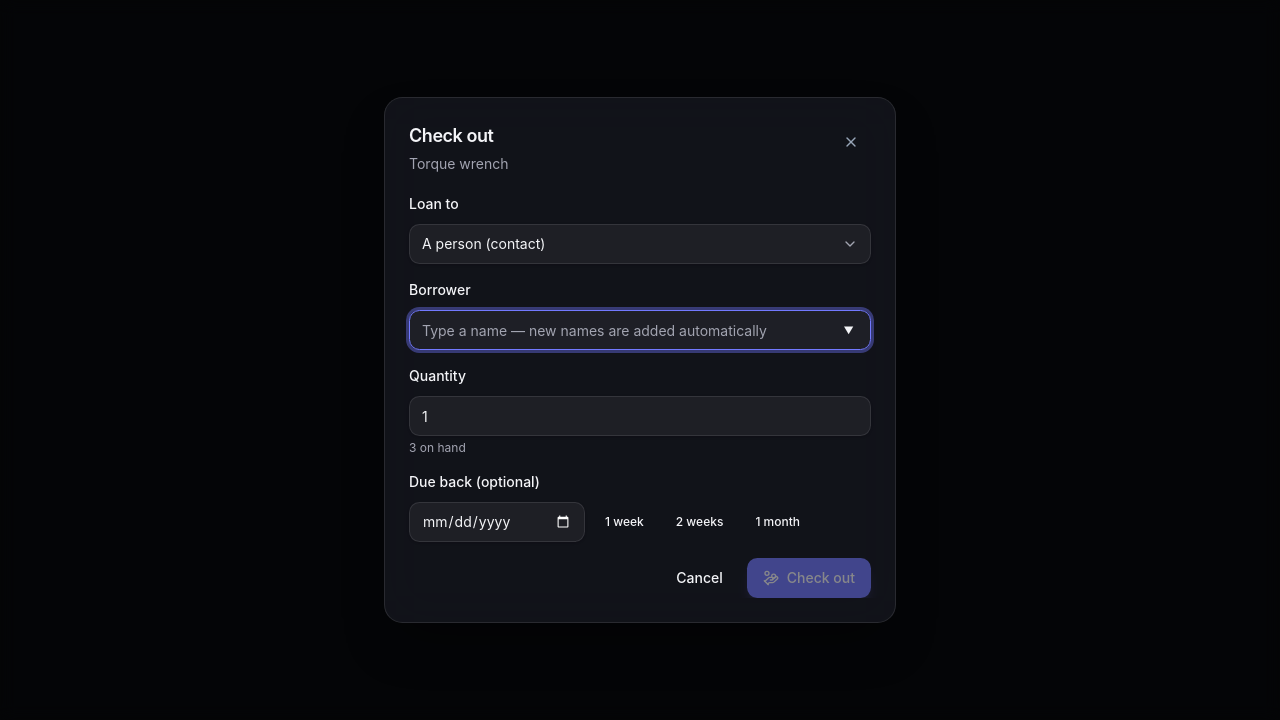
it: CheckoutDialog — loan target is a tagged union (B4) › keeps Check out disabled until a project is picked
This screenshot has width=1280, height=720.
Click the dropdown named "Loan to" at (640, 244), box [409,224,871,264]
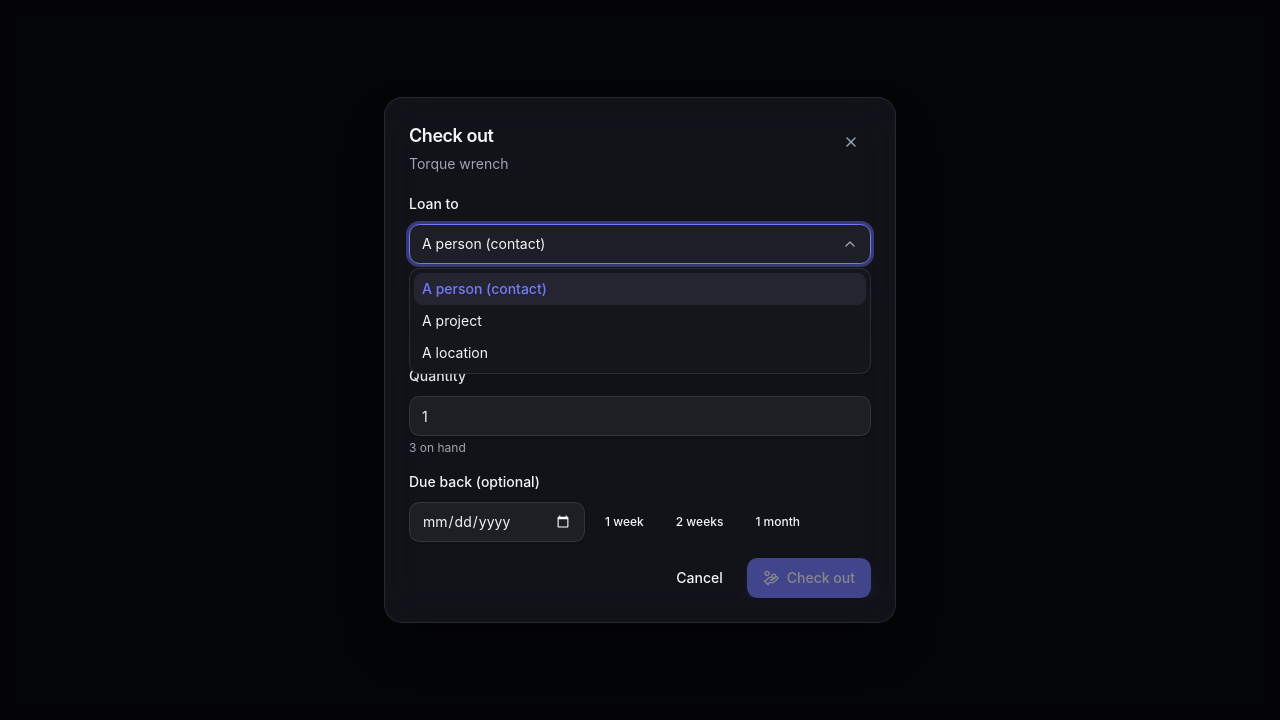
Click the option "A project" at (452, 320), box [422,312,482,329]
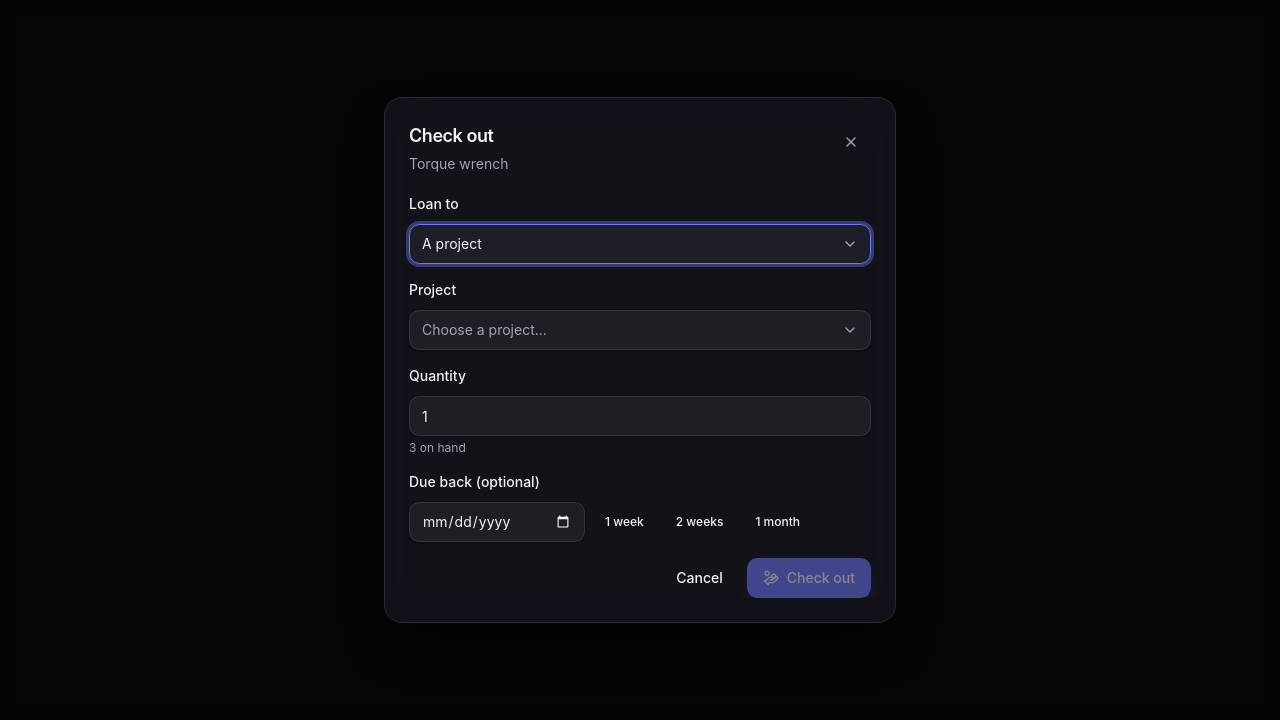
Check: the button "Check out" is disabled, box [747,558,871,598]
Click the dropdown labelled "project" at (640, 330), box [409,310,871,350]
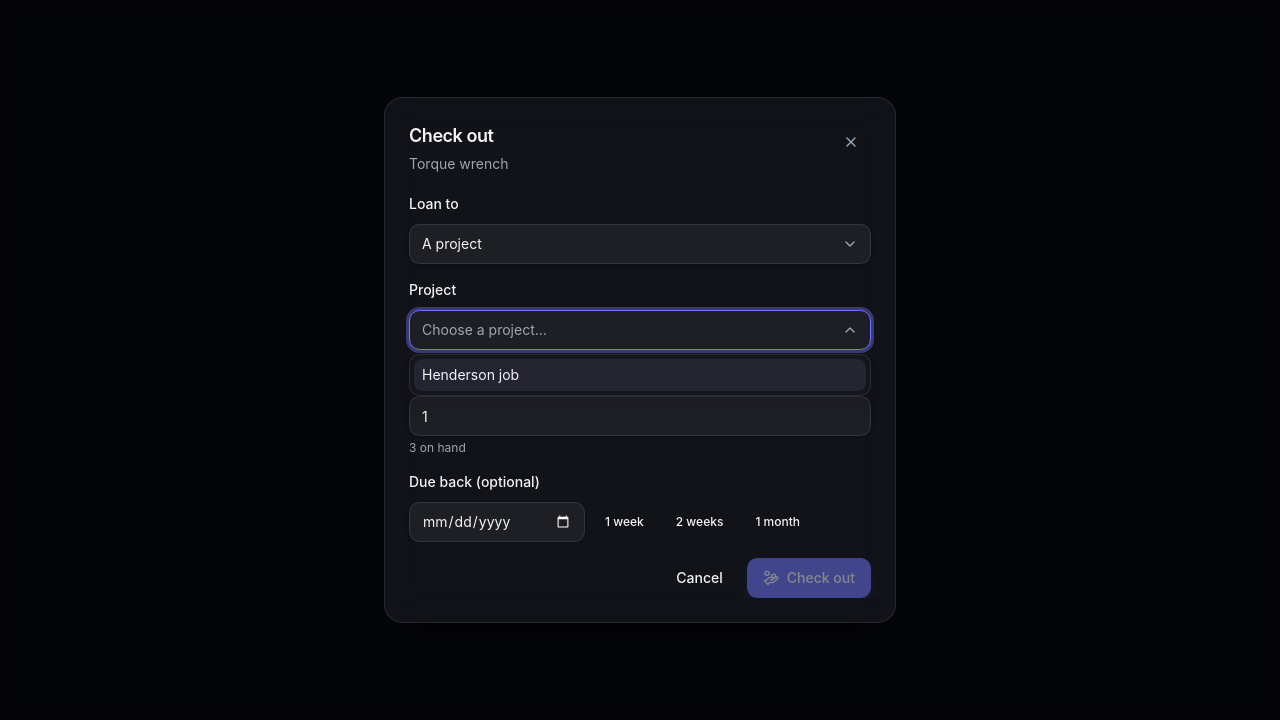
Click the option "Henderson job" at (471, 374), box [414,359,866,391]
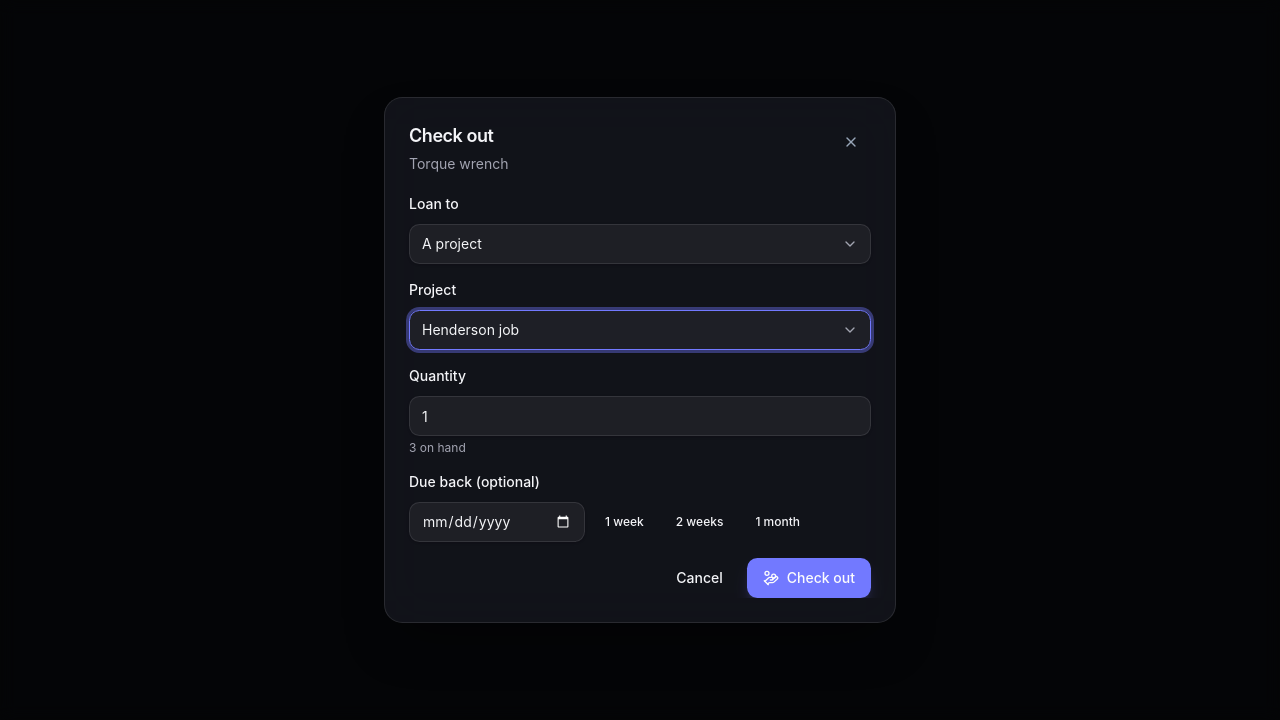
Check: the button "Check out" is enabled, box [747,558,871,598]
